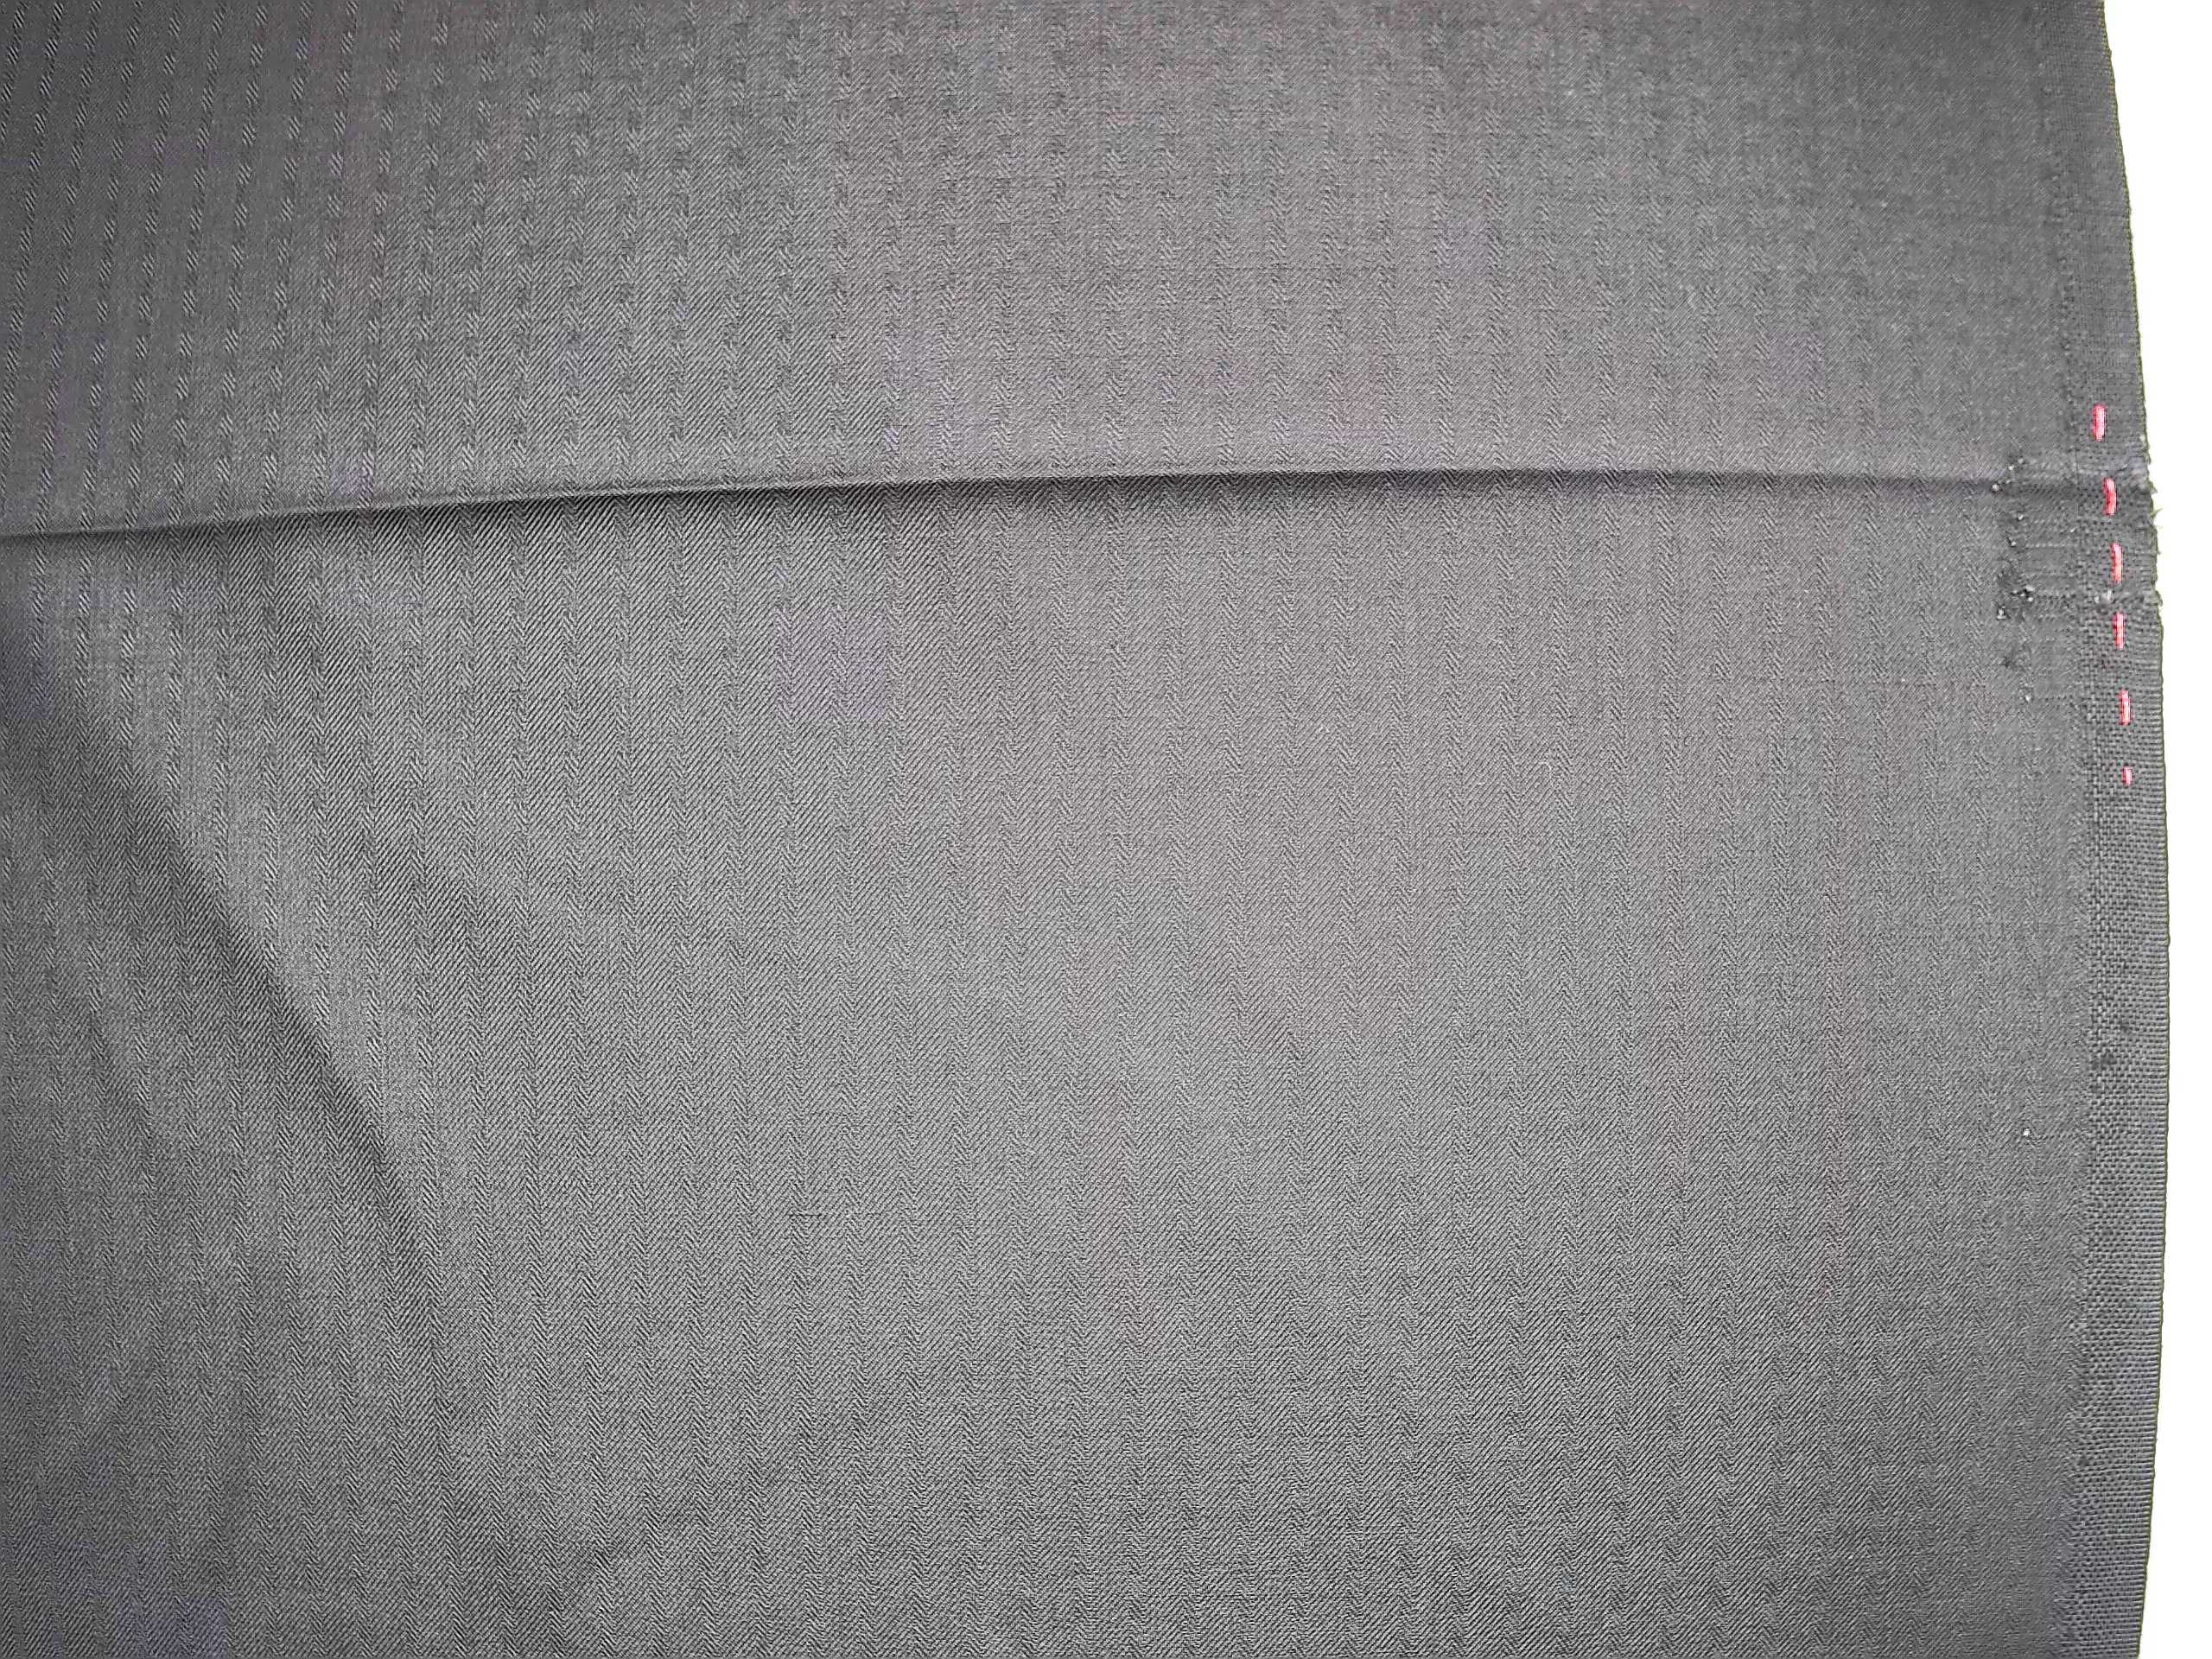others: (1956, 427, 2076, 711)
